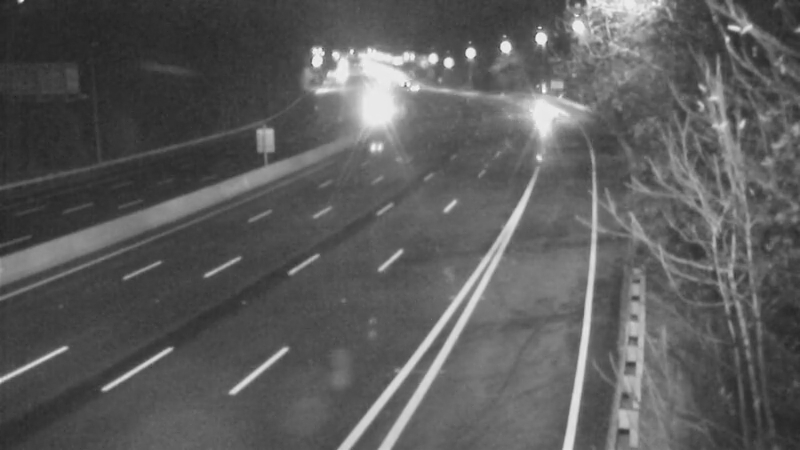vehicle: (388, 60, 438, 110), (518, 92, 568, 142), (346, 86, 396, 136)
